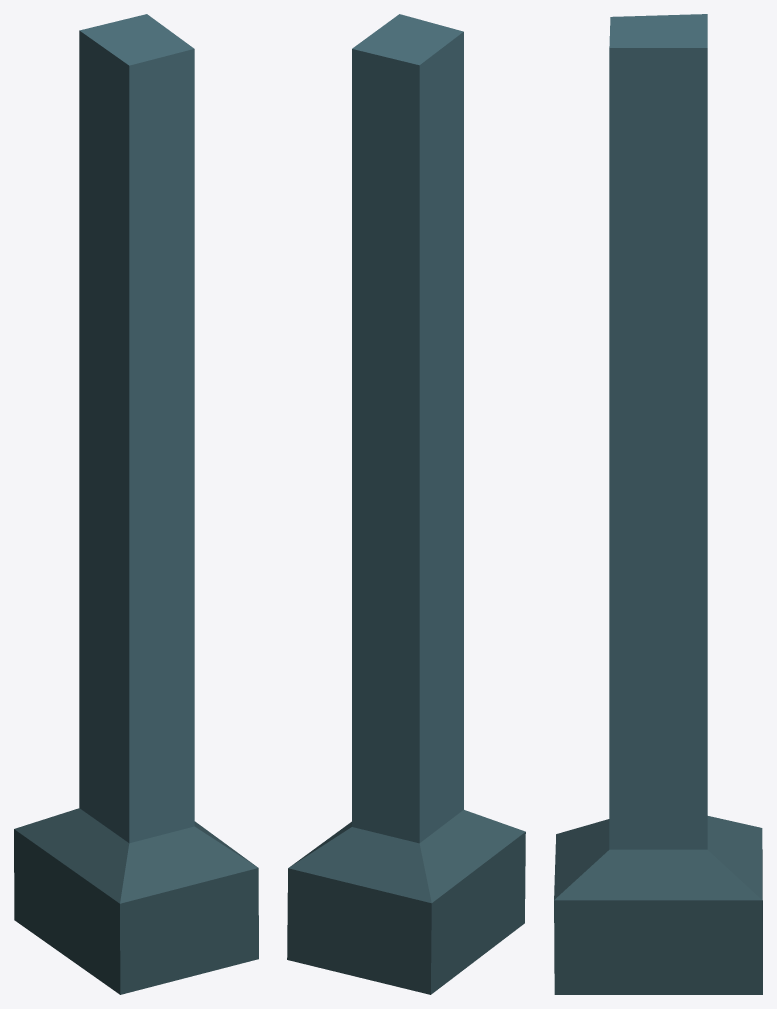
Rendered from Vent_2_D_8.glb.
3 views of the same model, side by side, from view 1: azimuth 30°, elevation 25°; view 2: azimuth 150°, elevation 25°; view 3: azimuth 270°, elevation 25° (orthographic). The views are drawn at different scales.
Visible parts, largest first — view 1: Vent_2_D_8; view 2: Vent_2_D_8; view 3: Vent_2_D_8.
Part boxes in pixels (bbox=[...]): Vent_2_D_8: bbox=[14, 14, 258, 994]; Vent_2_D_8: bbox=[287, 14, 525, 994]; Vent_2_D_8: bbox=[554, 14, 762, 994].
Size of the model in its own units: 0.1225 by 0.7328 by 0.1491.
Materials: 1 (1 with a texture image).
